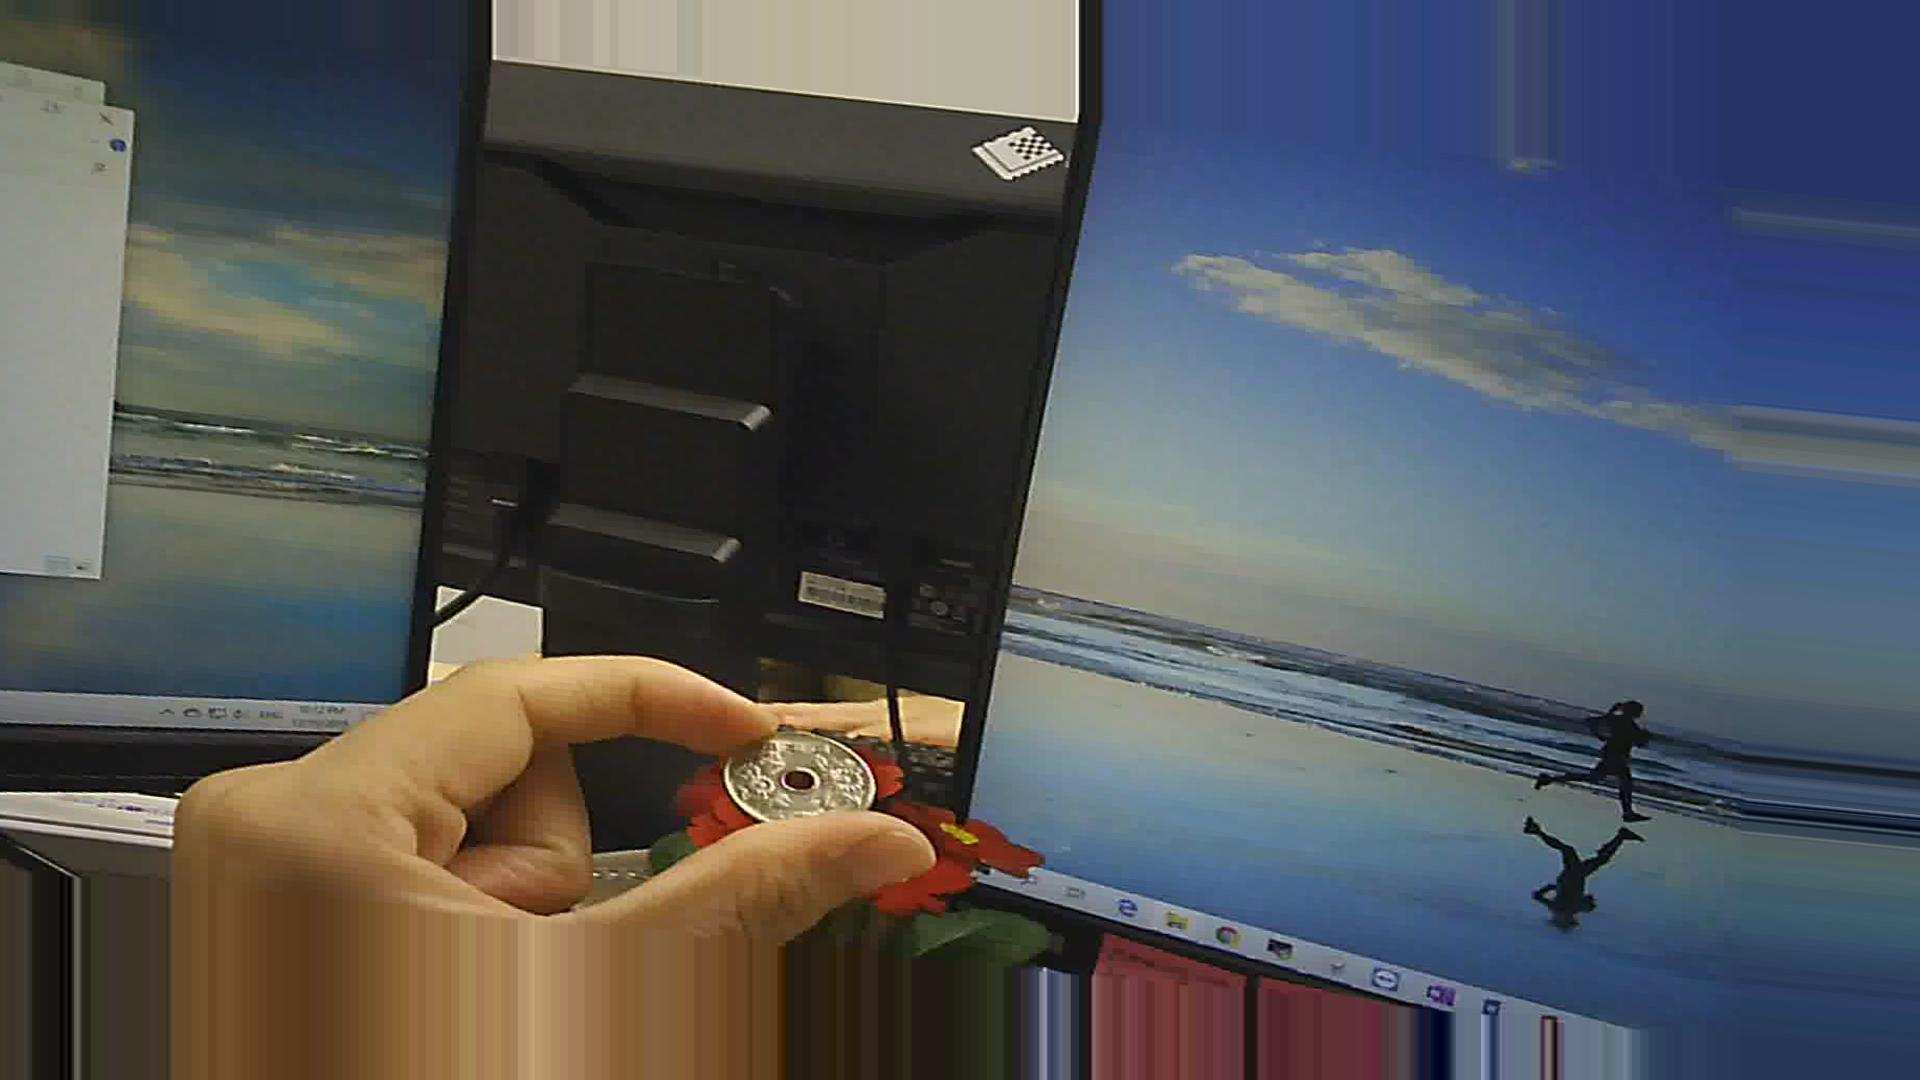50 Yen: (717, 715, 885, 836)
